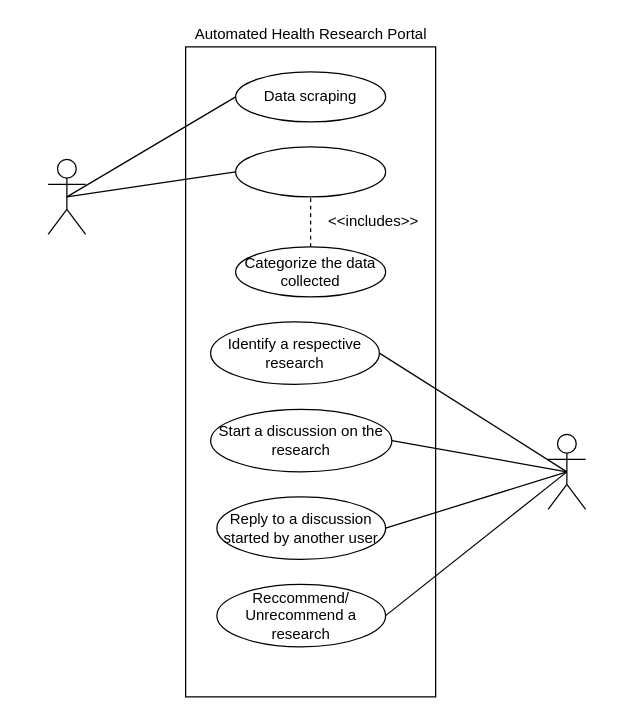
The diagram is 625 pixels wide and 719 high, and some of its shapes have lost their labels. Here are the shapes that lost their labels. From the top down, the box of each, then its label:
(234, 146, 386, 197): Processing the data colected
(47, 158, 86, 234): eRepositories
(547, 433, 586, 509): Healthcare personnels
